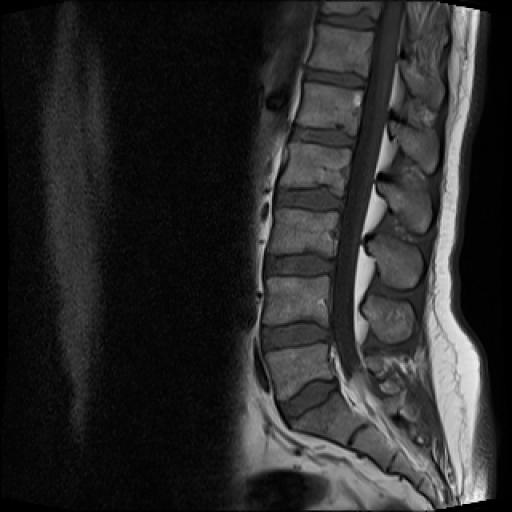L1: (296, 82, 364, 136)
L2: (280, 143, 352, 196)
L3: (268, 208, 339, 260)
L4: (262, 275, 329, 329)
L5: (266, 342, 332, 402)
S1: (292, 391, 364, 446)
